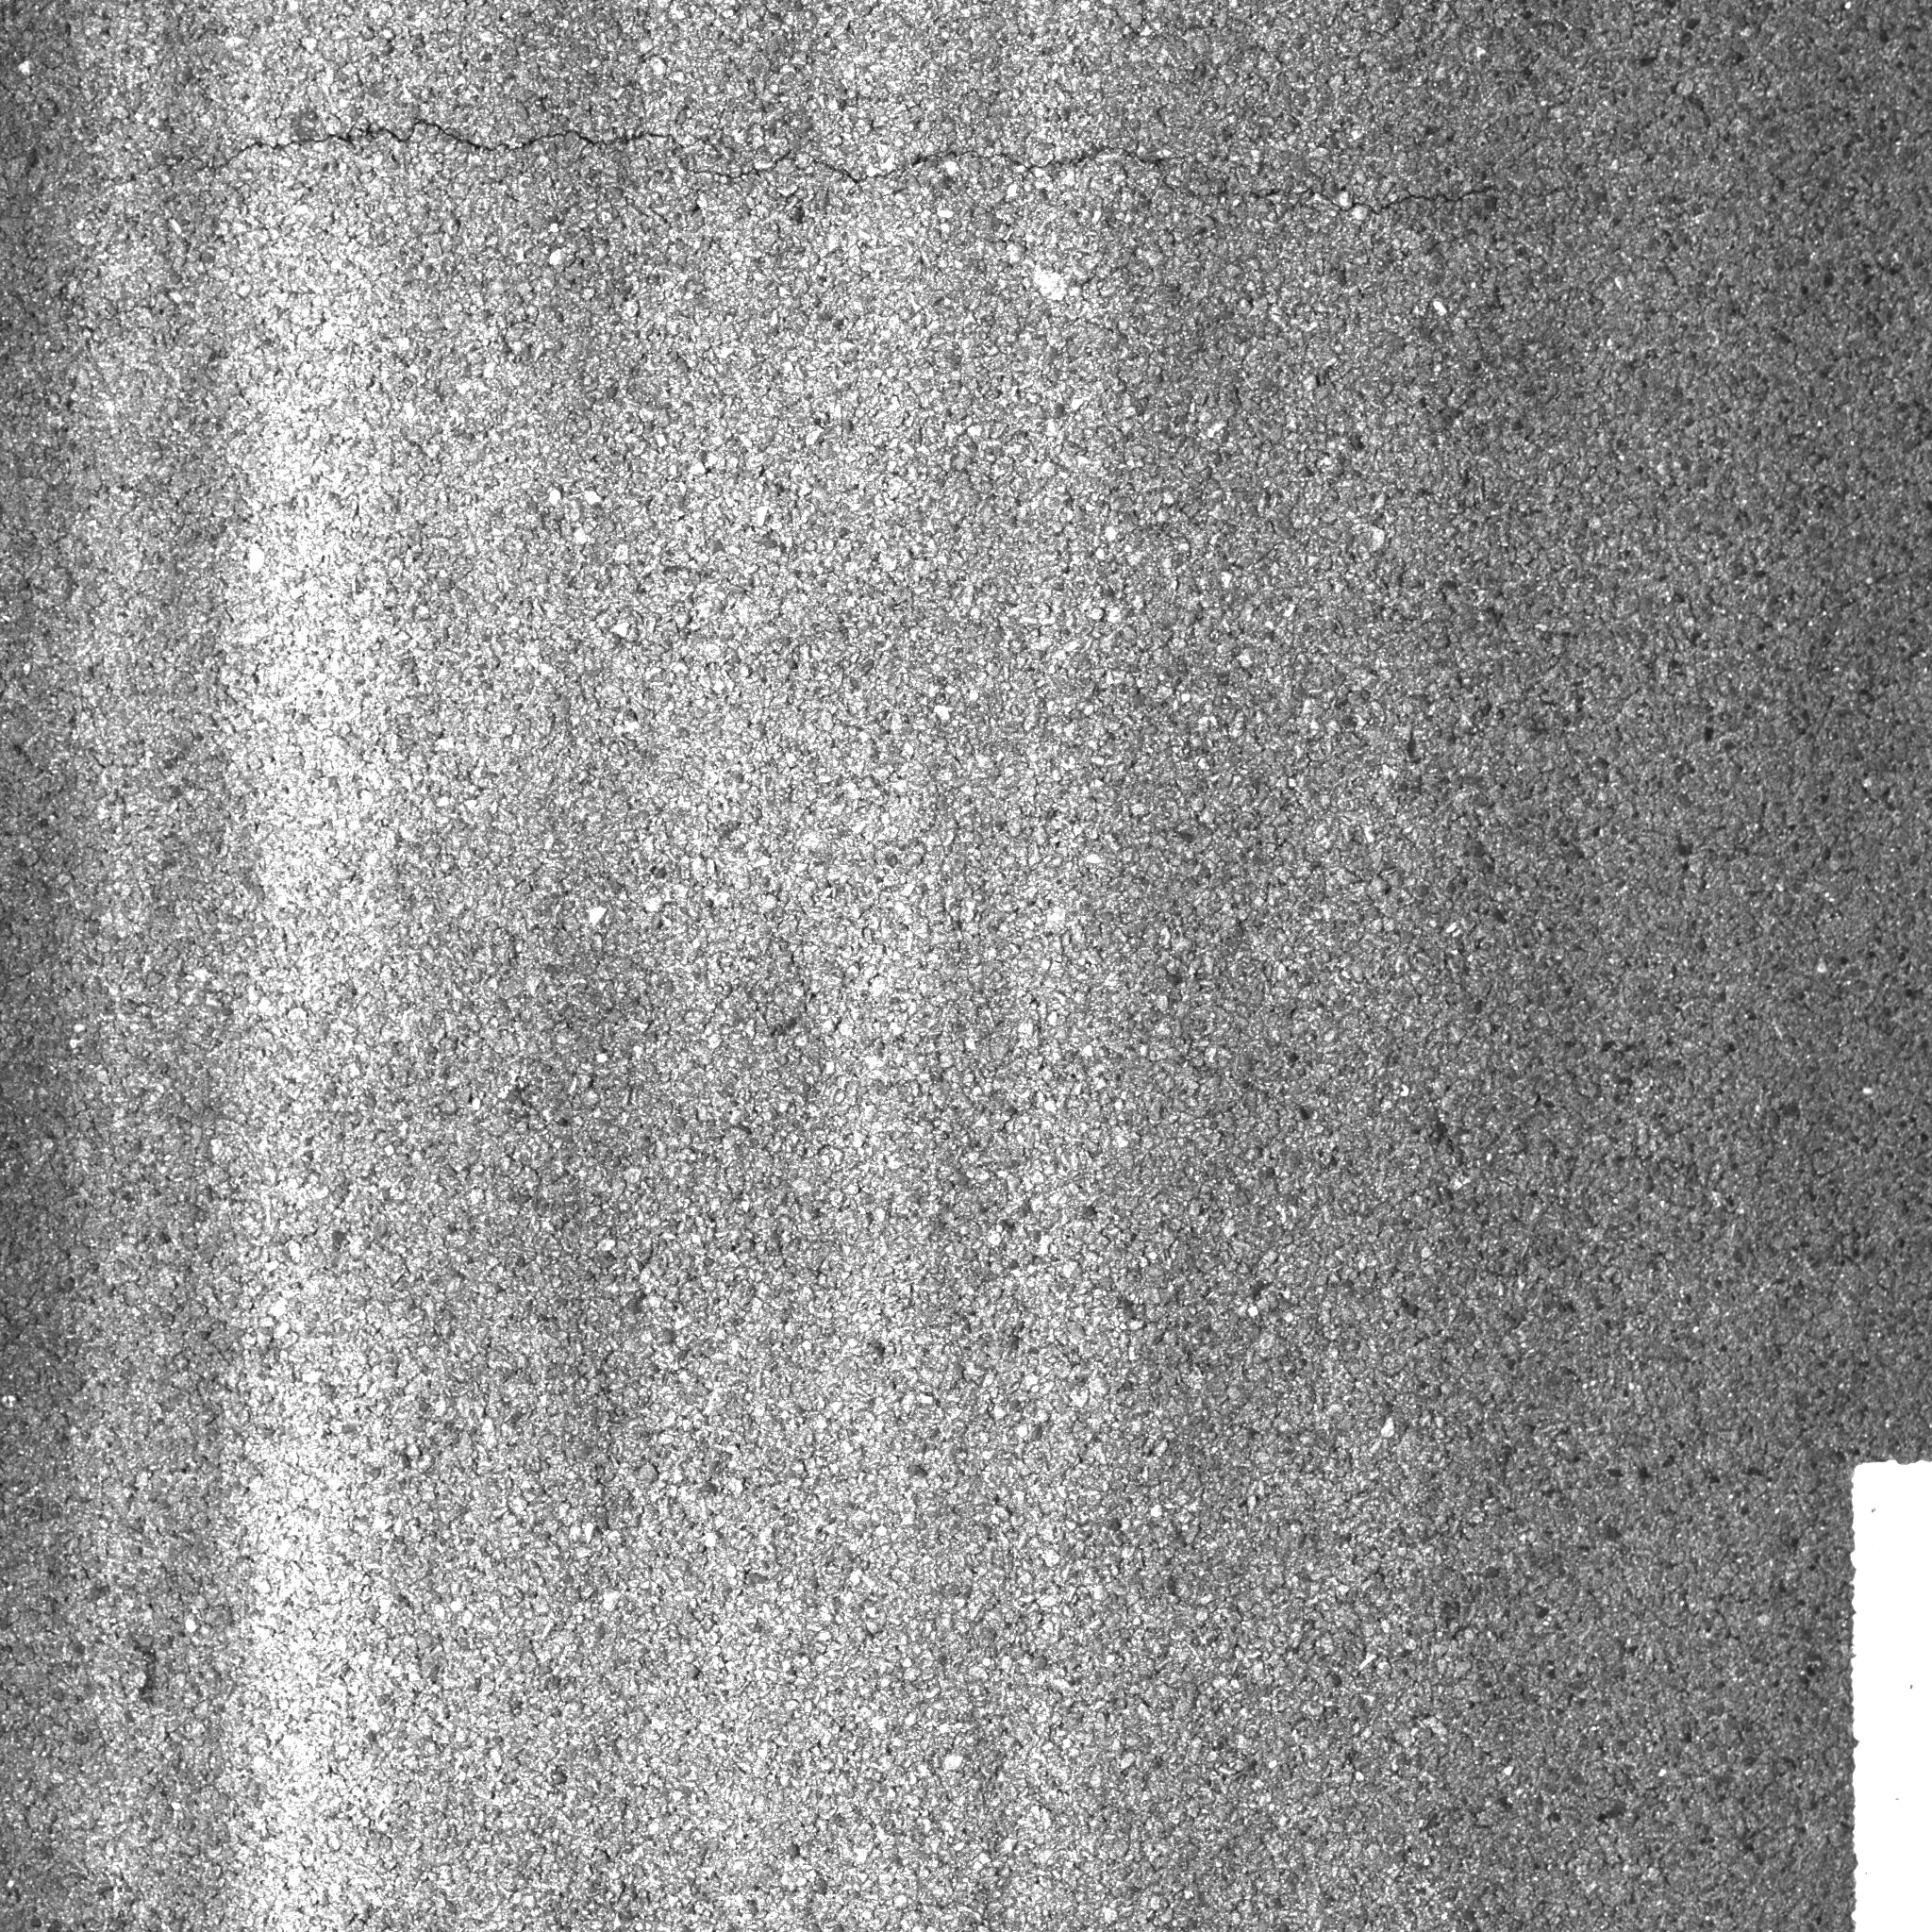transverse: (39, 74, 1767, 260)
